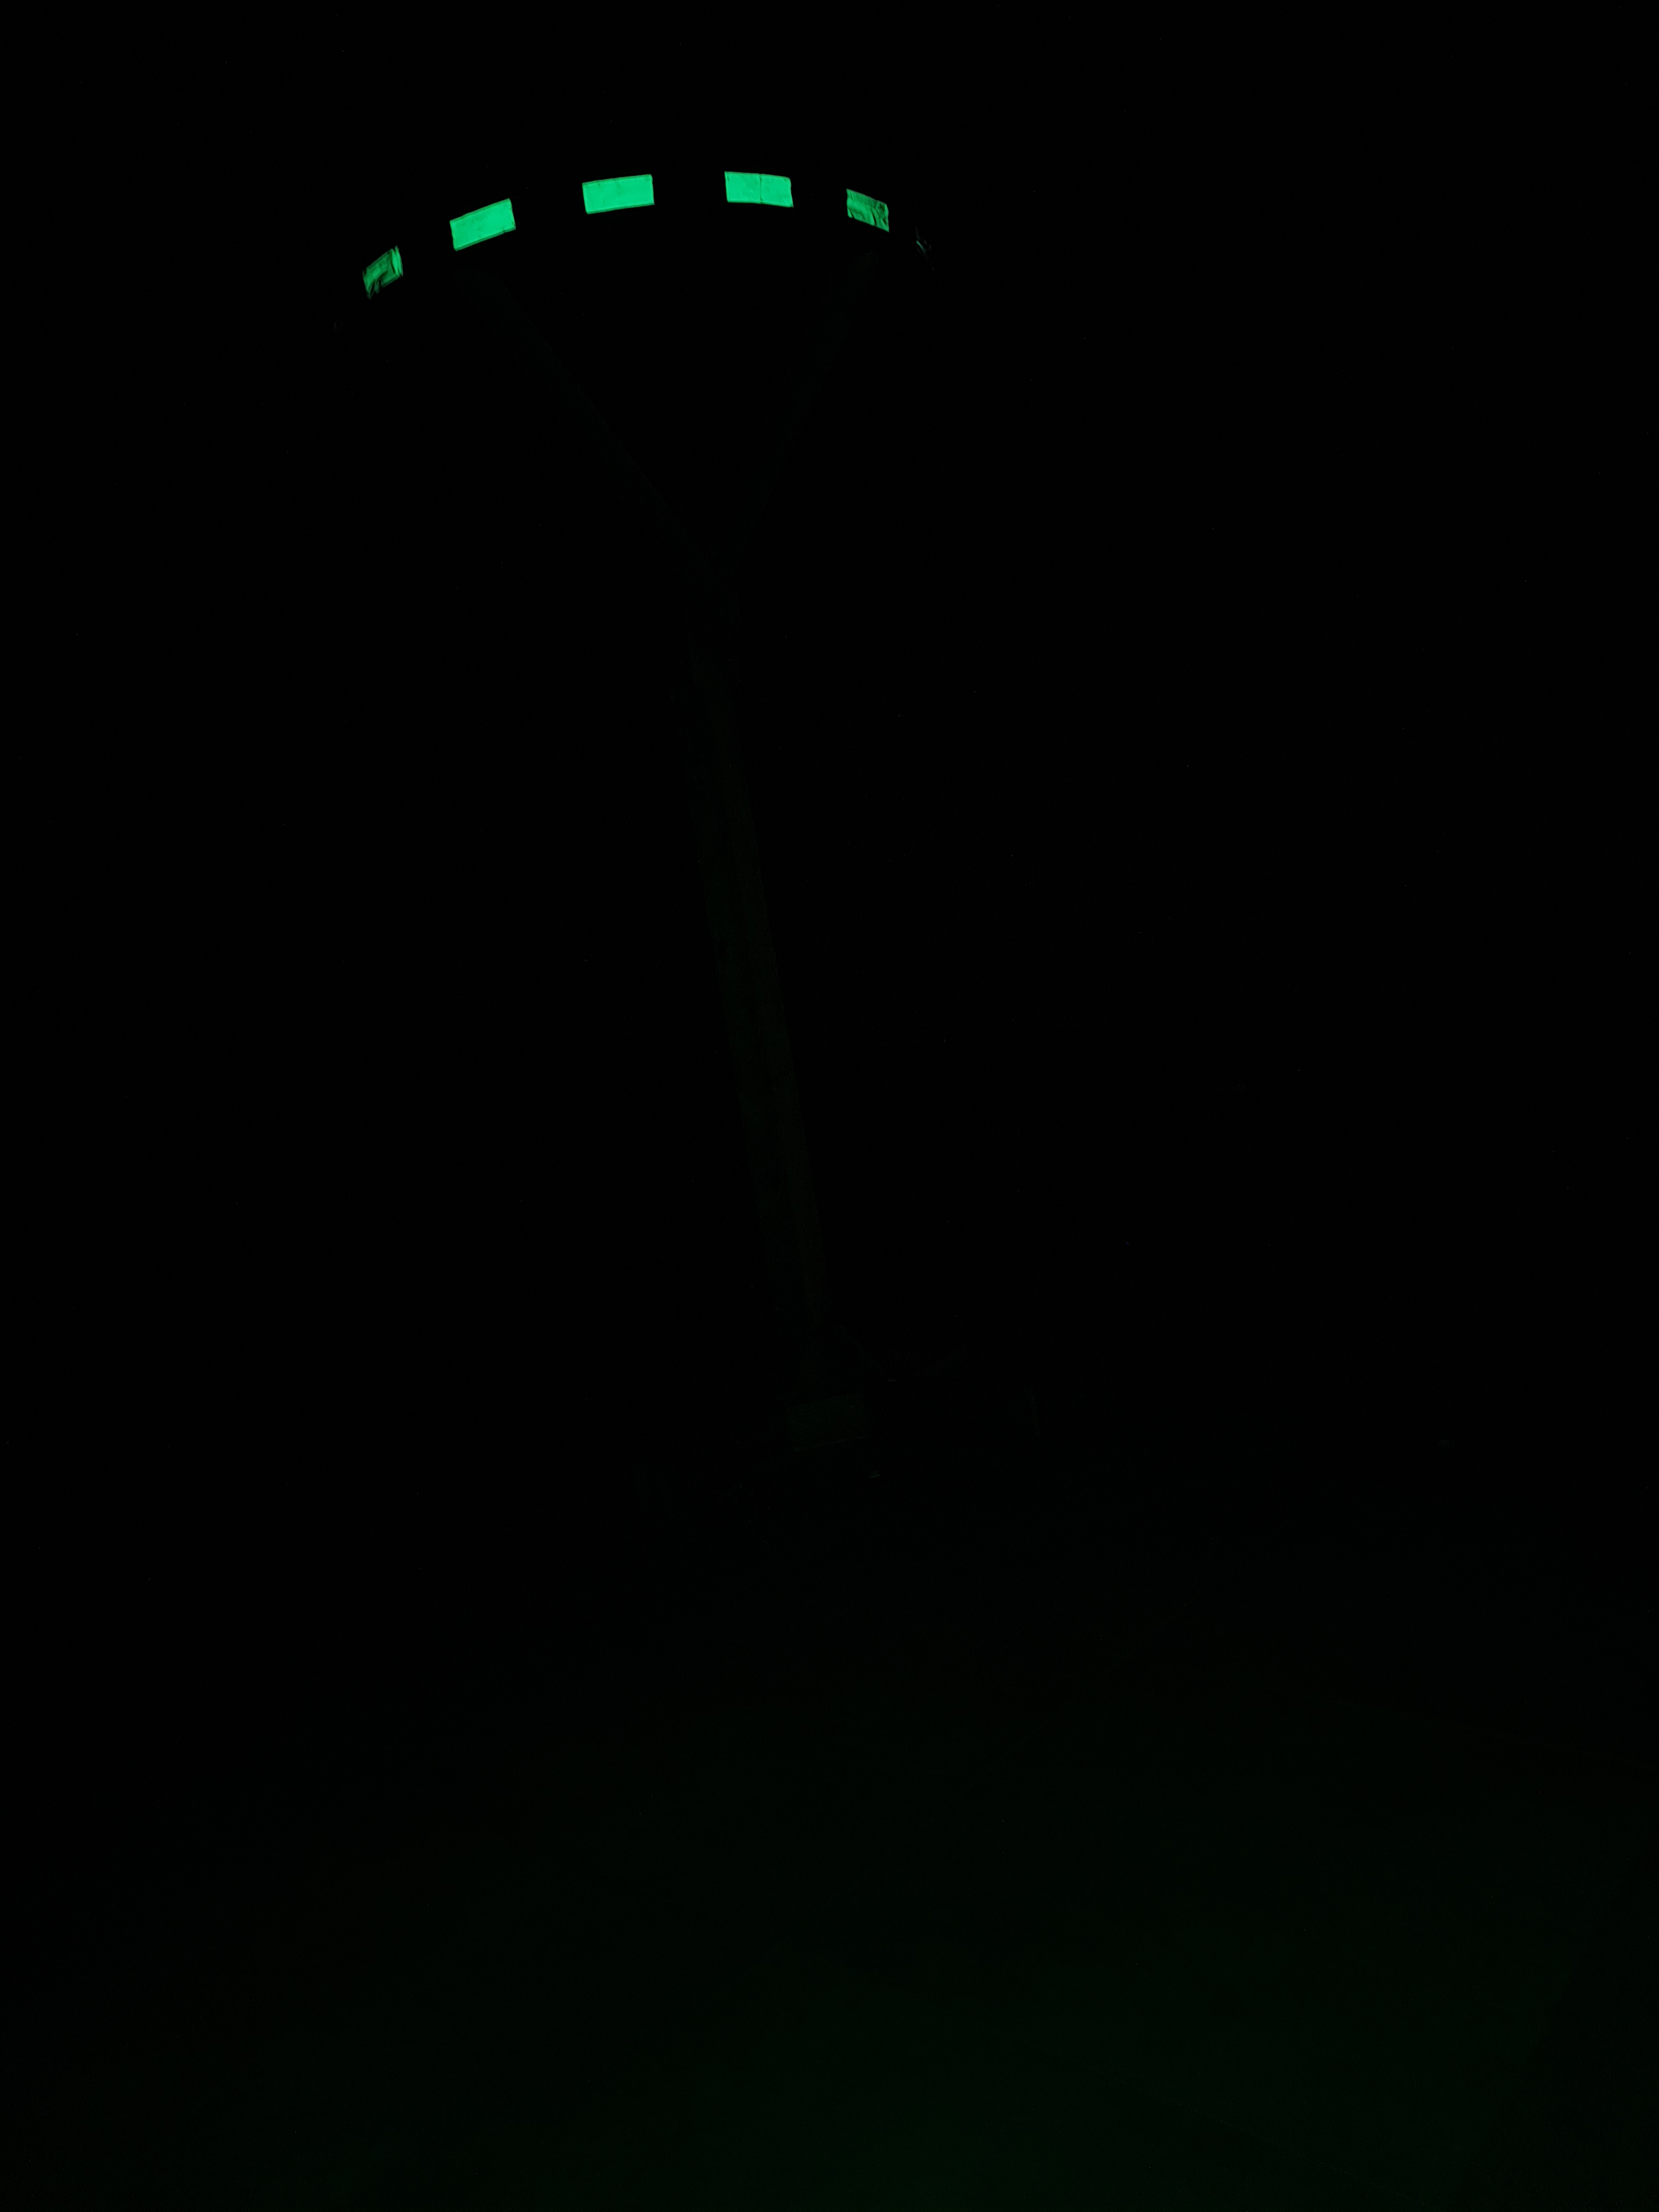hoop: (356, 167, 892, 303)
